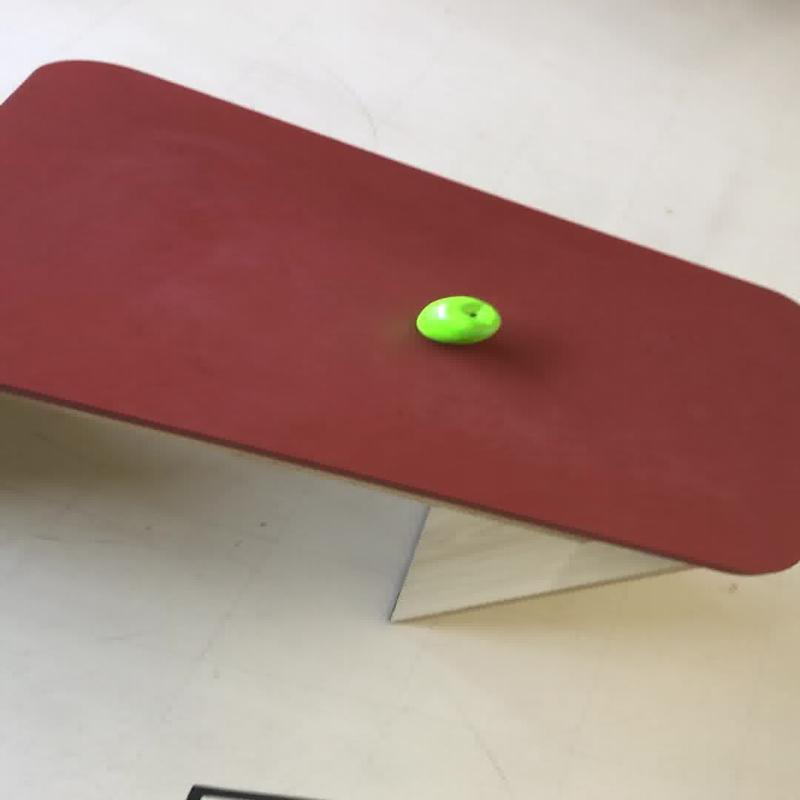apple: (413, 294, 501, 344)
